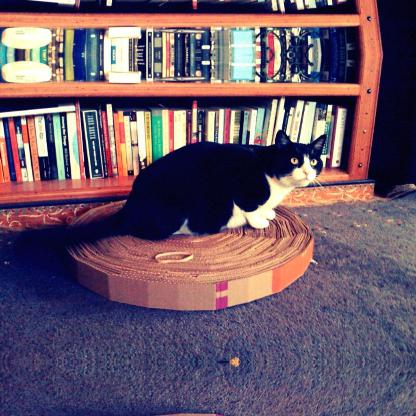Cat: (48, 132, 326, 248)
